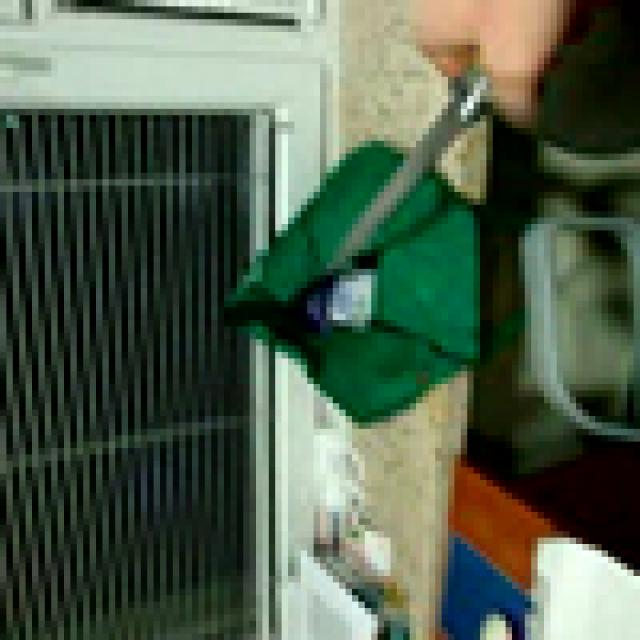weapon: (320, 45, 518, 282)
